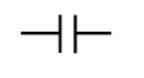Capacitor: (47, 11, 88, 56)
